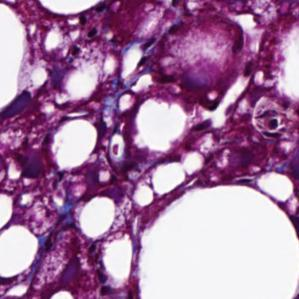inflammation: (244, 99, 291, 141), (65, 24, 107, 60)
